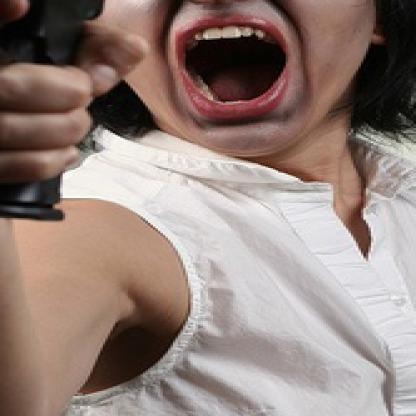gun: (0, 0, 113, 223)
